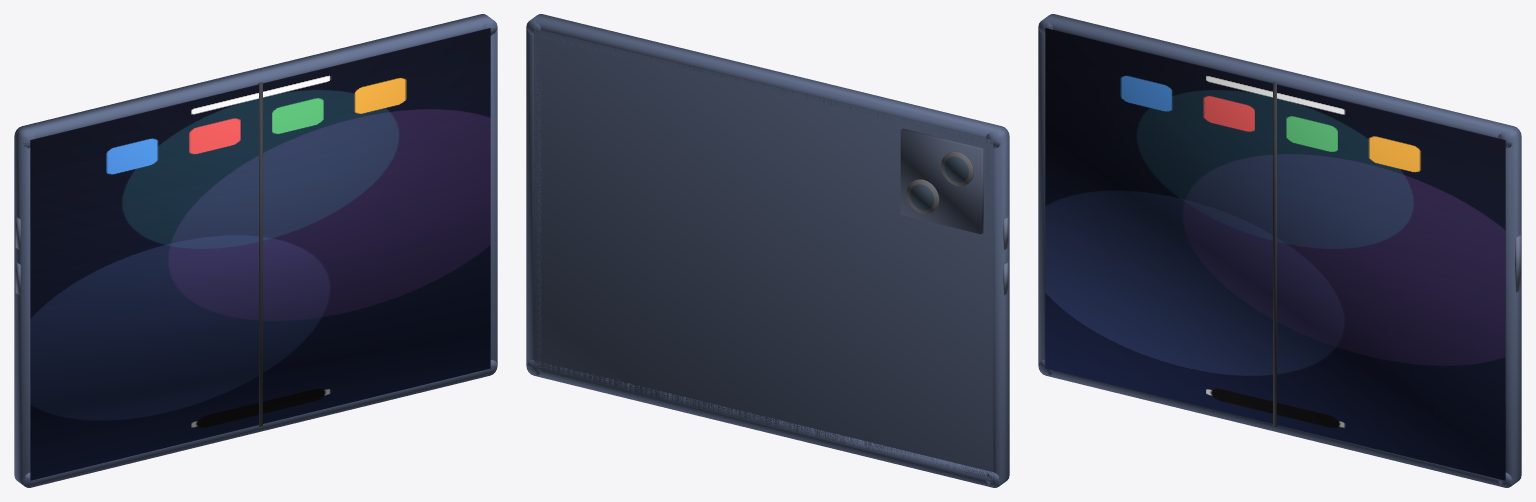
Rendered from iphone-duo-open-night-sky.glb.
3 views of the same model, side by side, from view 1: azimuth 30°, elevation 25°; view 2: azimuth 150°, elevation 25°; view 3: azimuth 330°, elevation 25° (orthographic).
Parts seen in each view (by area): view 1: iPhoneDuo; view 2: iPhoneDuo; view 3: iPhoneDuo.
Part boxes in pixels (left/top/right/bottom): iPhoneDuo: left=14, top=14, right=497, bottom=487; iPhoneDuo: left=526, top=14, right=1009, bottom=487; iPhoneDuo: left=1038, top=14, right=1521, bottom=487.
Bounding box in the file's own units: 0.1656 × 0.1178 × 0.00807.
Materials: 7 (1 with a texture image).
